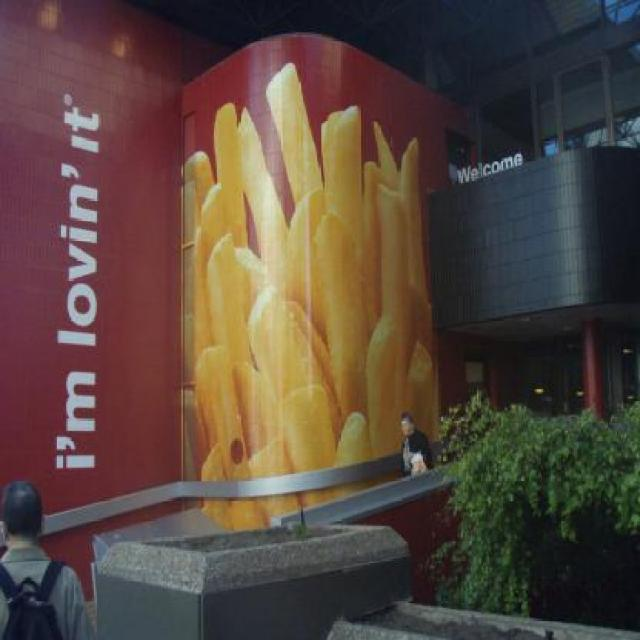French fries: (180, 63, 438, 531)
